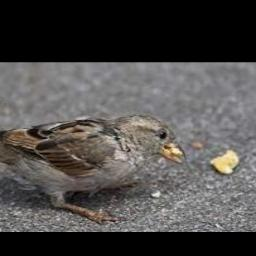Sparrow: (0, 114, 188, 224)
